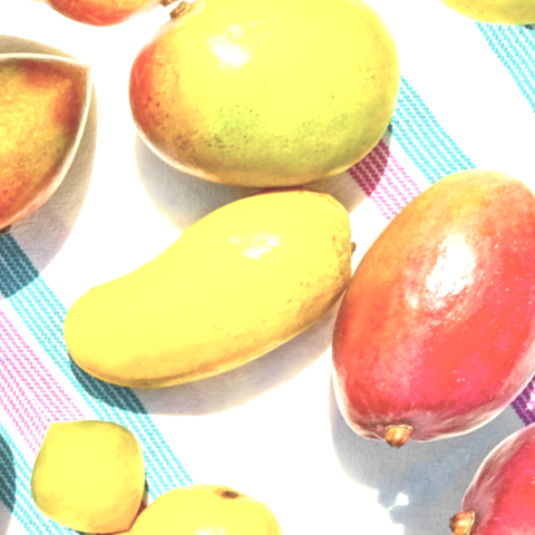mango: (21, 114, 420, 476), (213, 120, 535, 529), (47, 0, 465, 296)
